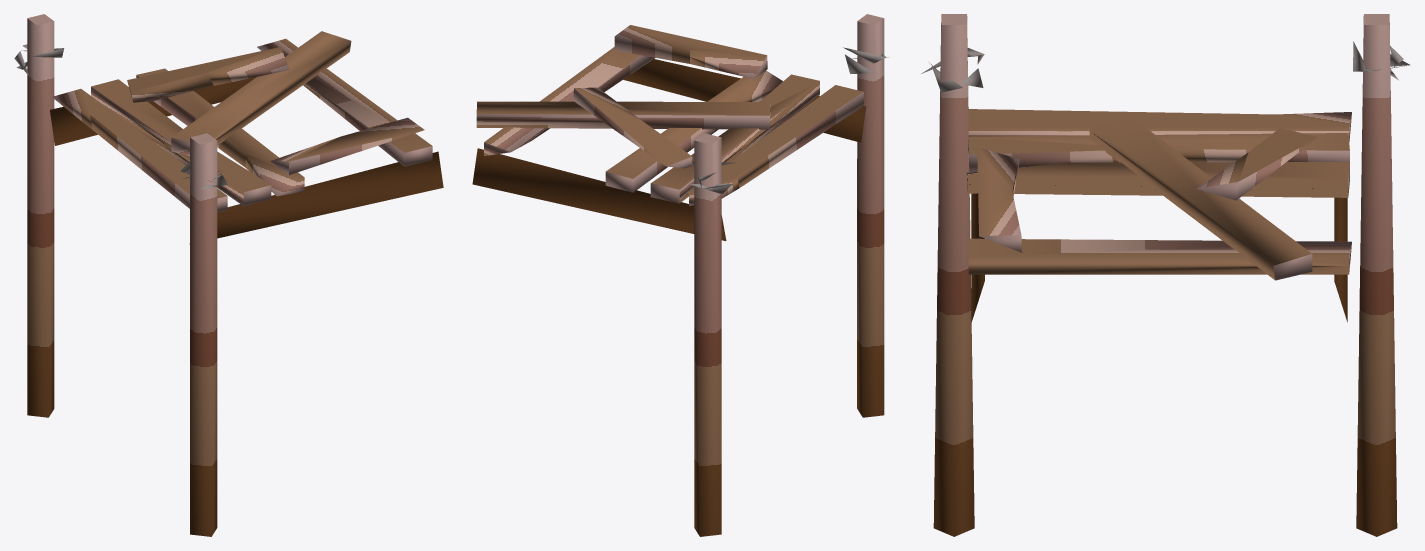
File: Environment_Dock_Broken.low.gltf
3 renders of one model, left to right at view 1: azimuth 30°, elevation 25°; view 2: azimuth 150°, elevation 25°; view 3: azimuth 270°, elevation 25°, orthographic. The views are drawn at different scales.
Parts seen in each view (by area): view 1: Environment_Dock_Broken; view 2: Environment_Dock_Broken; view 3: Environment_Dock_Broken.
Part boxes in pixels (left/top/right/bottom): Environment_Dock_Broken: left=14, top=14, right=443, bottom=536; Environment_Dock_Broken: left=472, top=14, right=888, bottom=536; Environment_Dock_Broken: left=921, top=14, right=1410, bottom=536.
Size of the model in its own units: 2.36 by 3.01 by 2.63.
1 material, 1 textured.
